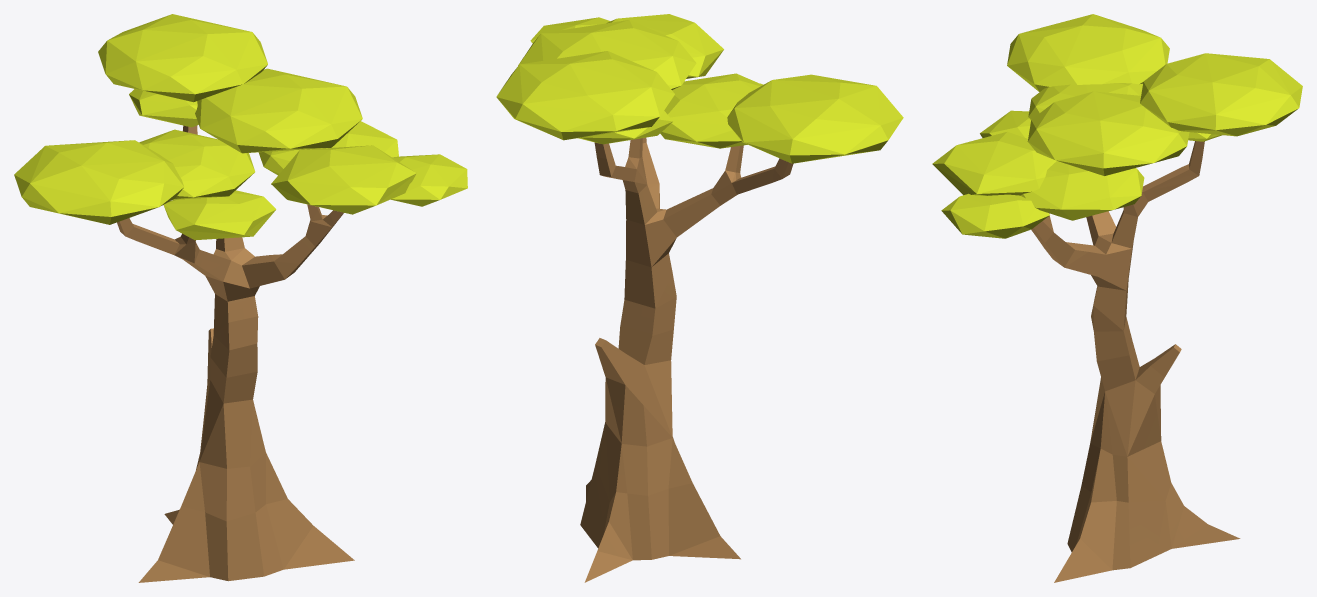
The model's file is Tree_B.fbx.
3 views of the same model, side by side, from view 1: azimuth 30°, elevation 25°; view 2: azimuth 150°, elevation 25°; view 3: azimuth 270°, elevation 25° (orthographic). The views are drawn at different scales.
Parts seen in each view (by area): view 1: Tree_B_01.006; view 2: Tree_B_01.006; view 3: Tree_B_01.006.
Part boxes in pixels (x1,y1,x2,y2): Tree_B_01.006: (14,14,467,582); Tree_B_01.006: (496,14,903,582); Tree_B_01.006: (932,14,1302,582).
Size of the model in its own units: 564 by 671 by 478.
